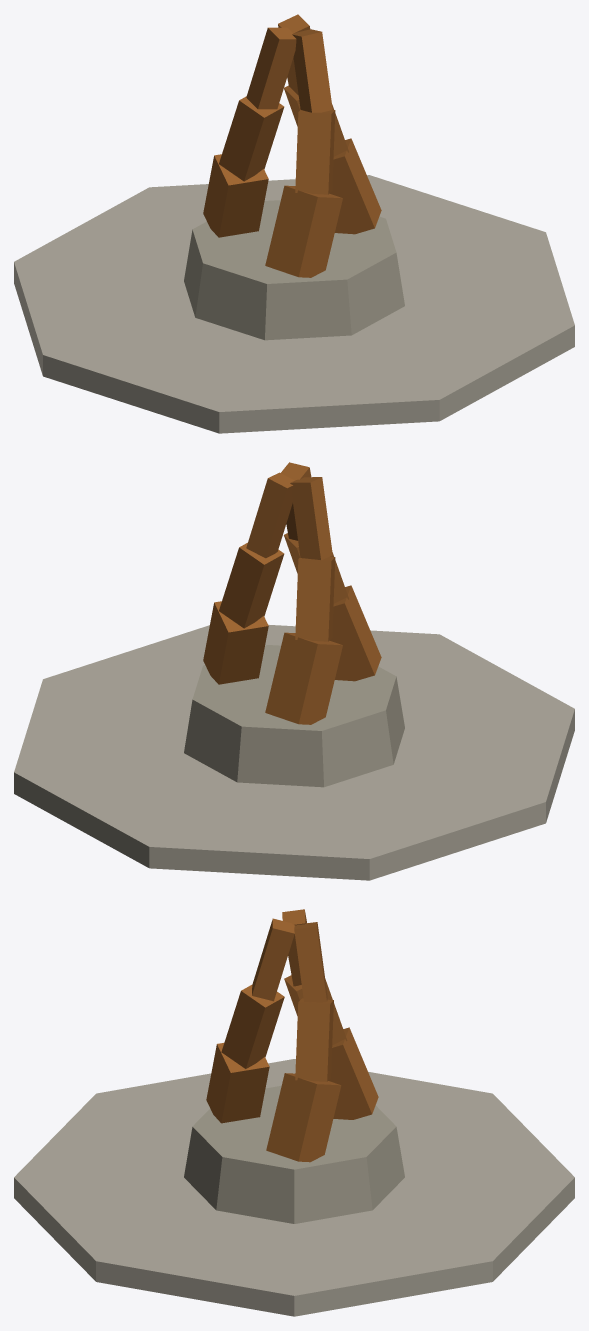
Rendered from tugu-selais-lod2.glb.
The picture shows the model from 3 angles, top to bottom: view 1: azimuth 30°, elevation 25°; view 2: azimuth 150°, elevation 25°; view 3: azimuth 270°, elevation 25°; orthographic projection. The views are drawn at different scales.
Parts seen in each view (by area): view 1: tugu-selais_LOD2; view 2: tugu-selais_LOD2; view 3: tugu-selais_LOD2.
Boxes of the visible parts, x1=… form: tugu-selais_LOD2: x1=14, y1=14, x2=574, y2=433; tugu-selais_LOD2: x1=14, y1=462, x2=574, y2=880; tugu-selais_LOD2: x1=14, y1=909, x2=574, y2=1316.
Bounding box in the file's own units: 22 × 12.07 × 22.
